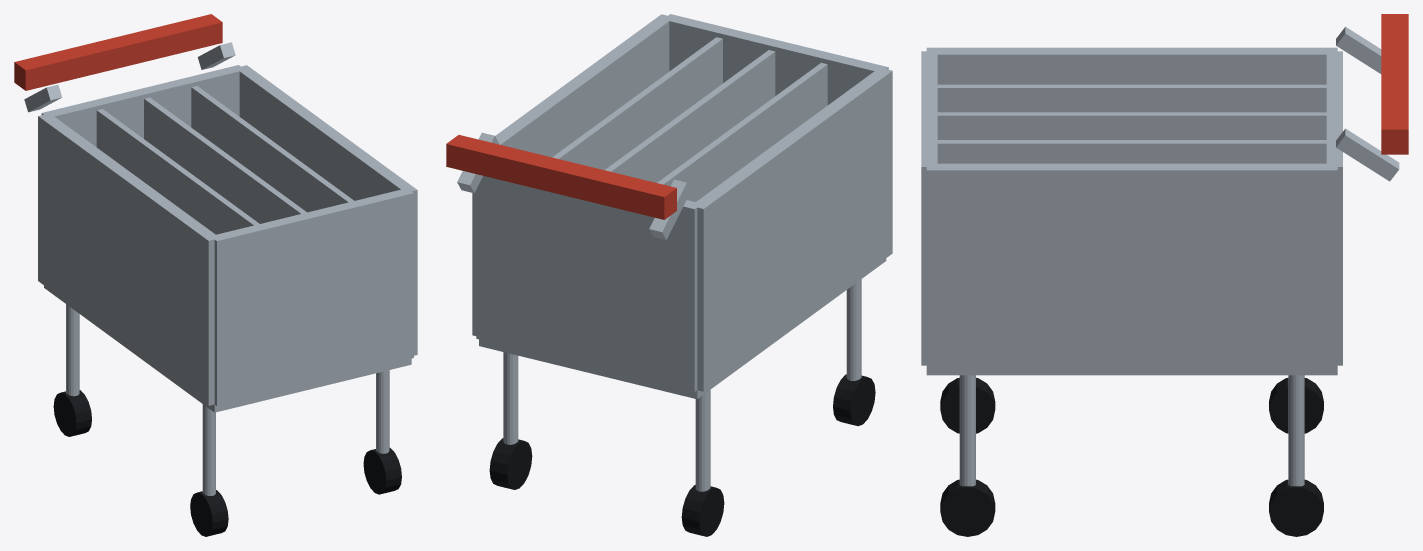
Rendered from shopping-cart-lod0.glb.
3 views of the same model, side by side, from view 1: azimuth 30°, elevation 25°; view 2: azimuth 150°, elevation 25°; view 3: azimuth 270°, elevation 25° (orthographic). The views are drawn at different scales.
Visible parts, largest first — view 1: shopping-cart; view 2: shopping-cart; view 3: shopping-cart.
Part boxes in pixels (x1=…): shopping-cart: x1=14, y1=14, x2=417, y2=536; shopping-cart: x1=446, y1=14, x2=892, y2=536; shopping-cart: x1=921, y1=14, x2=1408, y2=536.
Size of the model in its own units: 0.53 by 0.825 by 0.89.
